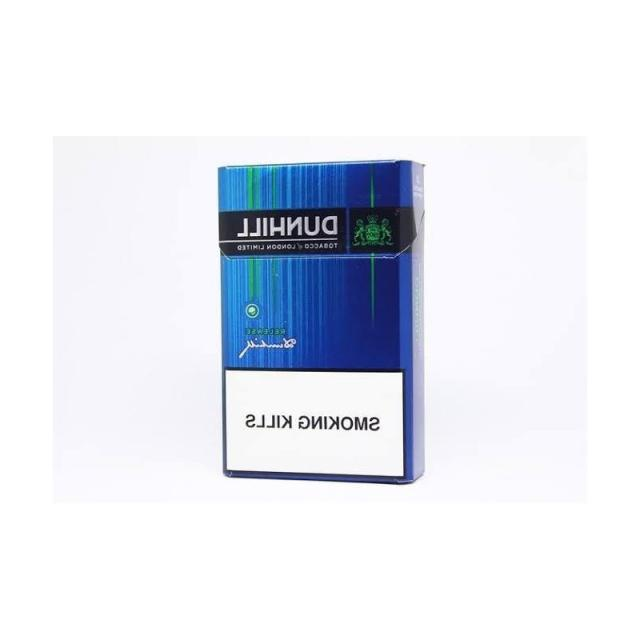dunhill: (211, 157, 426, 481)
